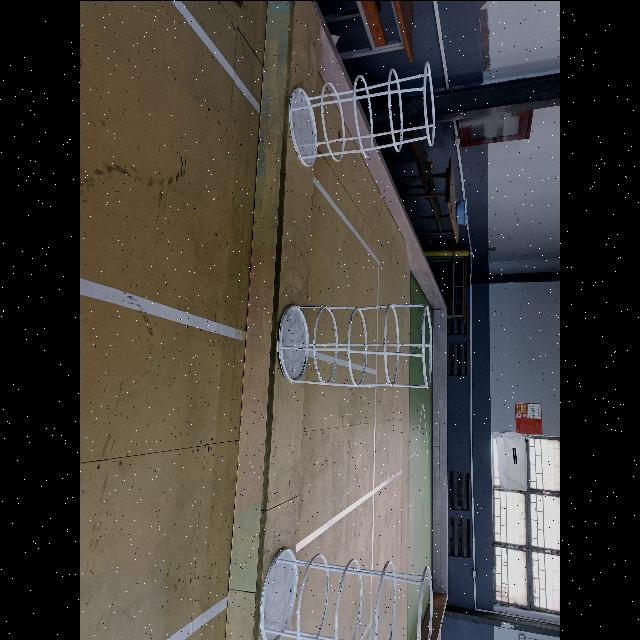S: (260, 546, 431, 640), (290, 62, 435, 165), (278, 305, 434, 389)
